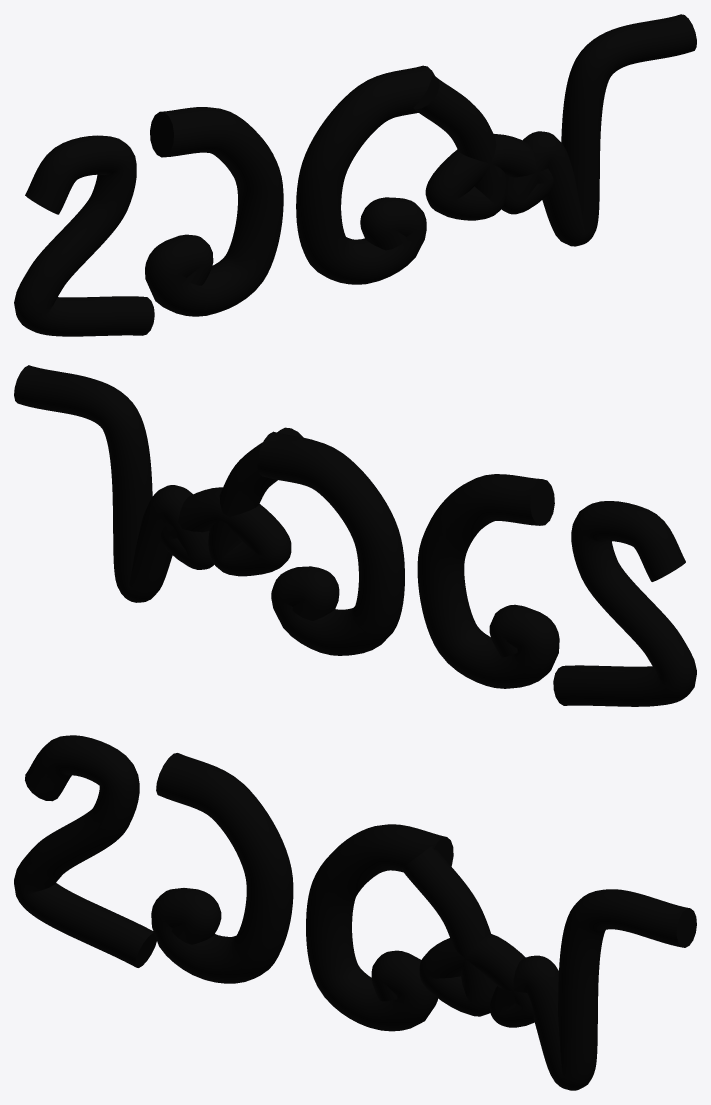
File: ekushe.glb
3 renders of one model, top to bottom at view 1: azimuth 30°, elevation 25°; view 2: azimuth 150°, elevation 25°; view 3: azimuth 330°, elevation 25°, orthographic. The views are drawn at different scales.
Parts seen in each view (by area): view 1: mesh_id60, mesh_id43, mesh_id50, mesh_id33; view 2: mesh_id60, mesh_id50, mesh_id43, mesh_id33; view 3: mesh_id60, mesh_id43, mesh_id33, mesh_id50.
Boxes of the visible parts, x1,y1,x2,y2 form: mesh_id60: (413,14,696,246); mesh_id43: (145,107,283,316); mesh_id50: (296,65,434,284); mesh_id33: (14,135,154,336); mesh_id60: (14,365,303,602); mesh_id50: (257,431,404,655); mesh_id43: (417,474,559,688); mesh_id33: (553,501,696,706); mesh_id60: (401,846,696,1090); mesh_id43: (151,753,293,983); mesh_id33: (14,735,156,967); mesh_id50: (306,824,453,1031).
Bounding box in the file's own units: 1.17 × 0.3724 × 0.093.
4 materials, 4 textured.
